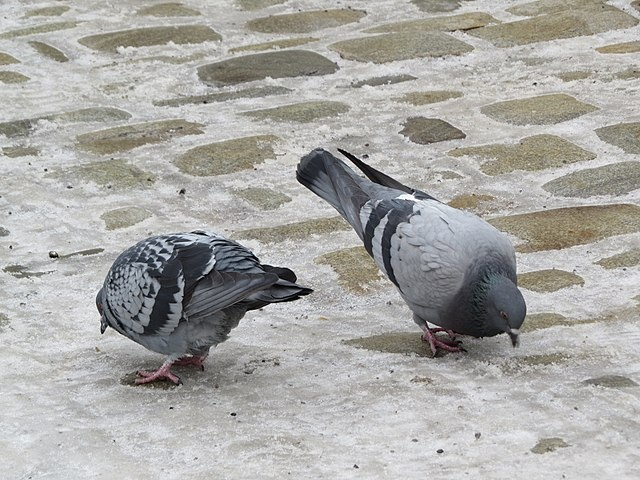Pigeon: (296, 142, 535, 358), (90, 223, 320, 394)
